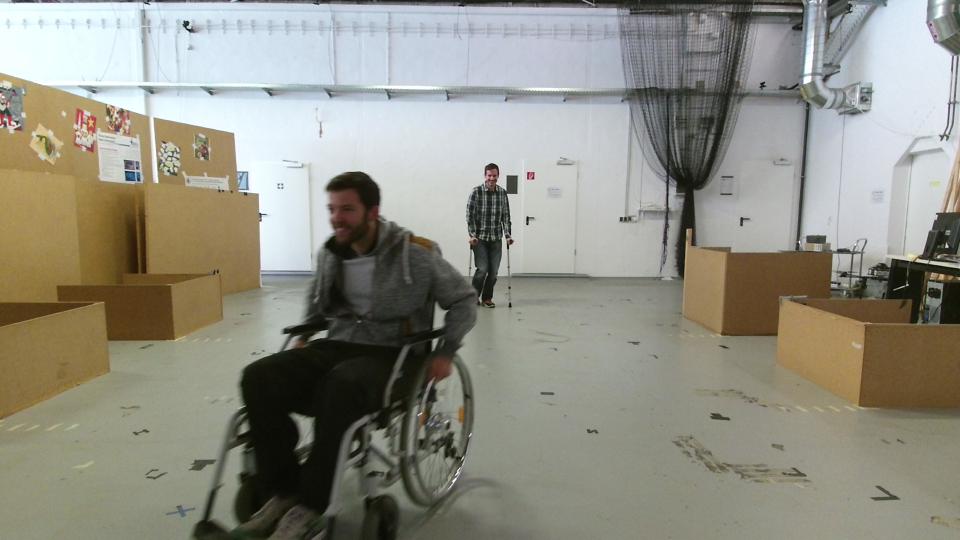wheelchair: (174, 166, 492, 540)
